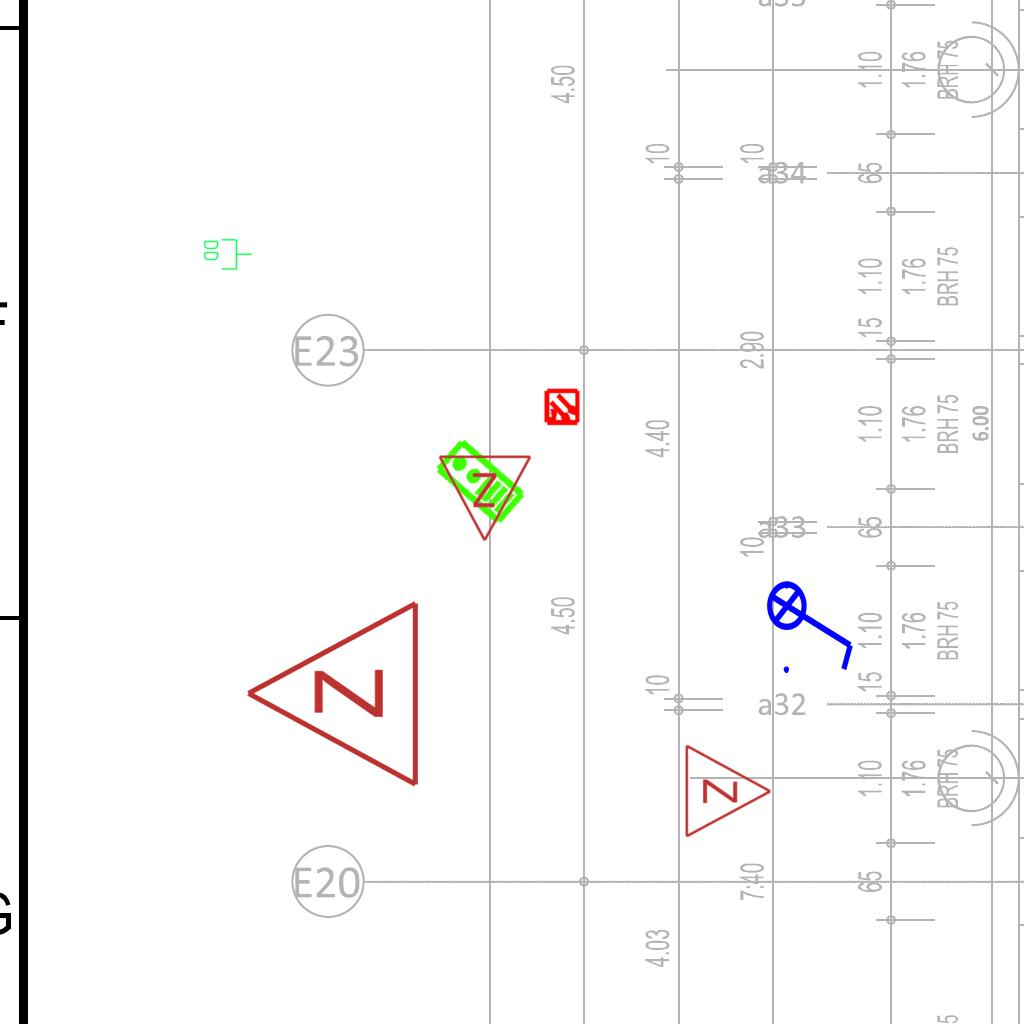Ausschalter_beleuchtet: (765, 567, 861, 679)
Datenanschluss_zweifach: (202, 237, 253, 271)
Gegensprechanlage_mit_Video: (430, 435, 529, 529)
OT_Multisensormelder_(Kombination_RMO_WMD): (534, 380, 590, 436)
Zimmersignalleuchte: (233, 598, 433, 794), (678, 741, 778, 839), (437, 448, 535, 548)
